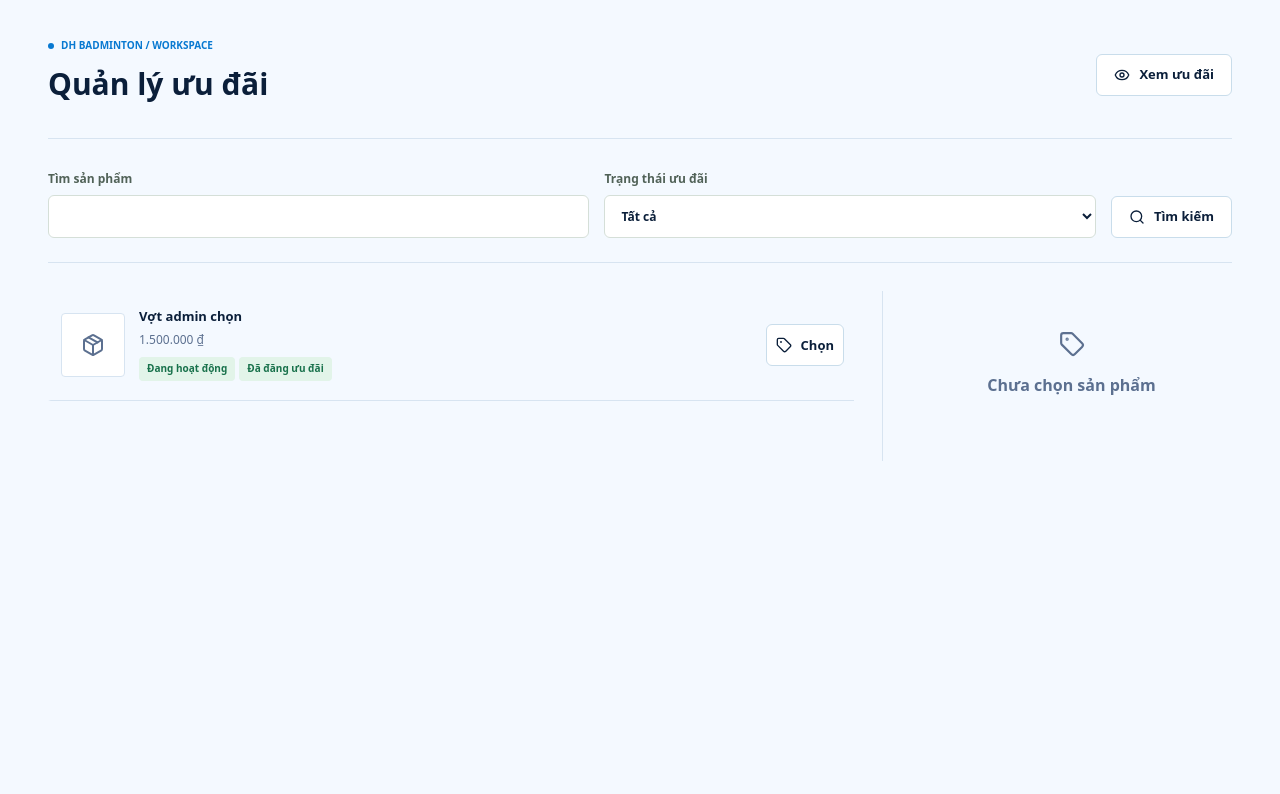
Test: requires confirmation to end an offer and restores the server price
Click the button with aria-label "Chọn Vợt admin chọn" at (805, 345), box x1=766 y1=324 x2=844 y2=366
(page scrolled)
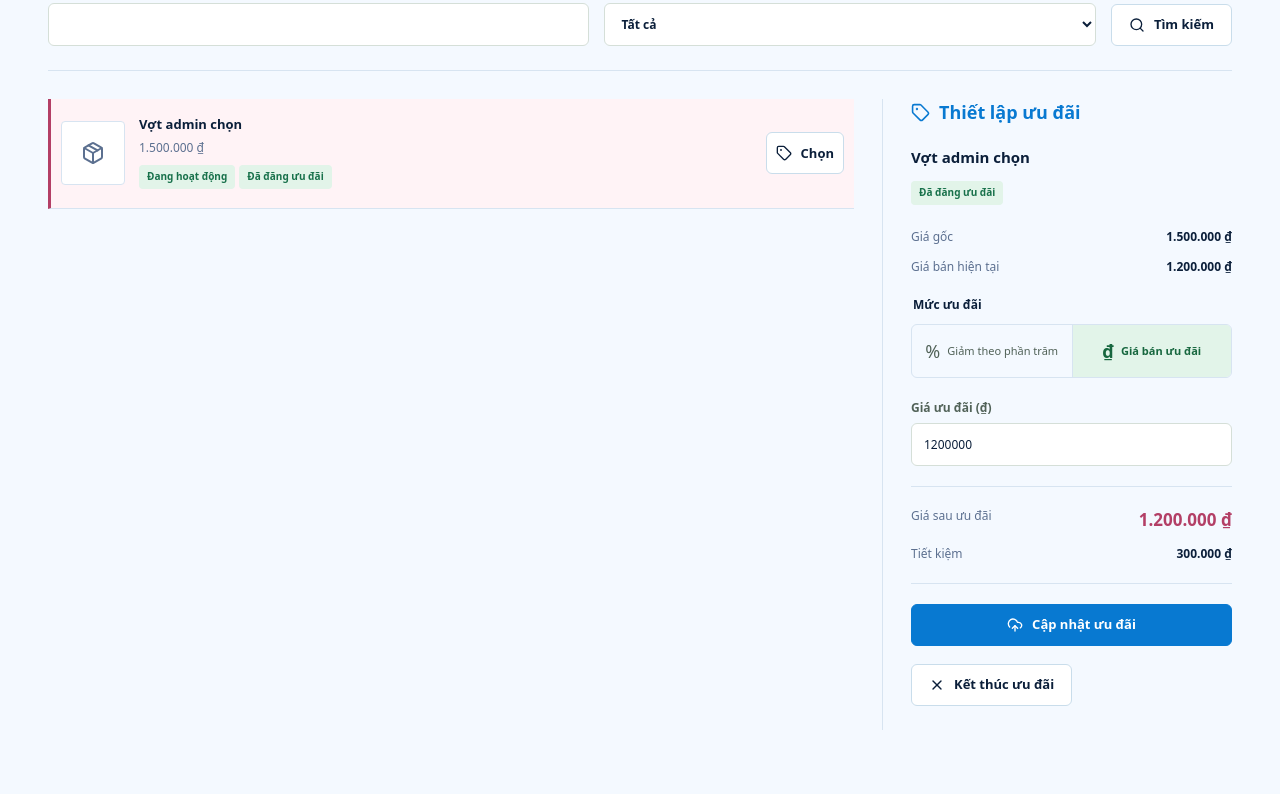
Click the button "Kết thúc ưu đãi" at (992, 685), box x1=911 y1=664 x2=1072 y2=706
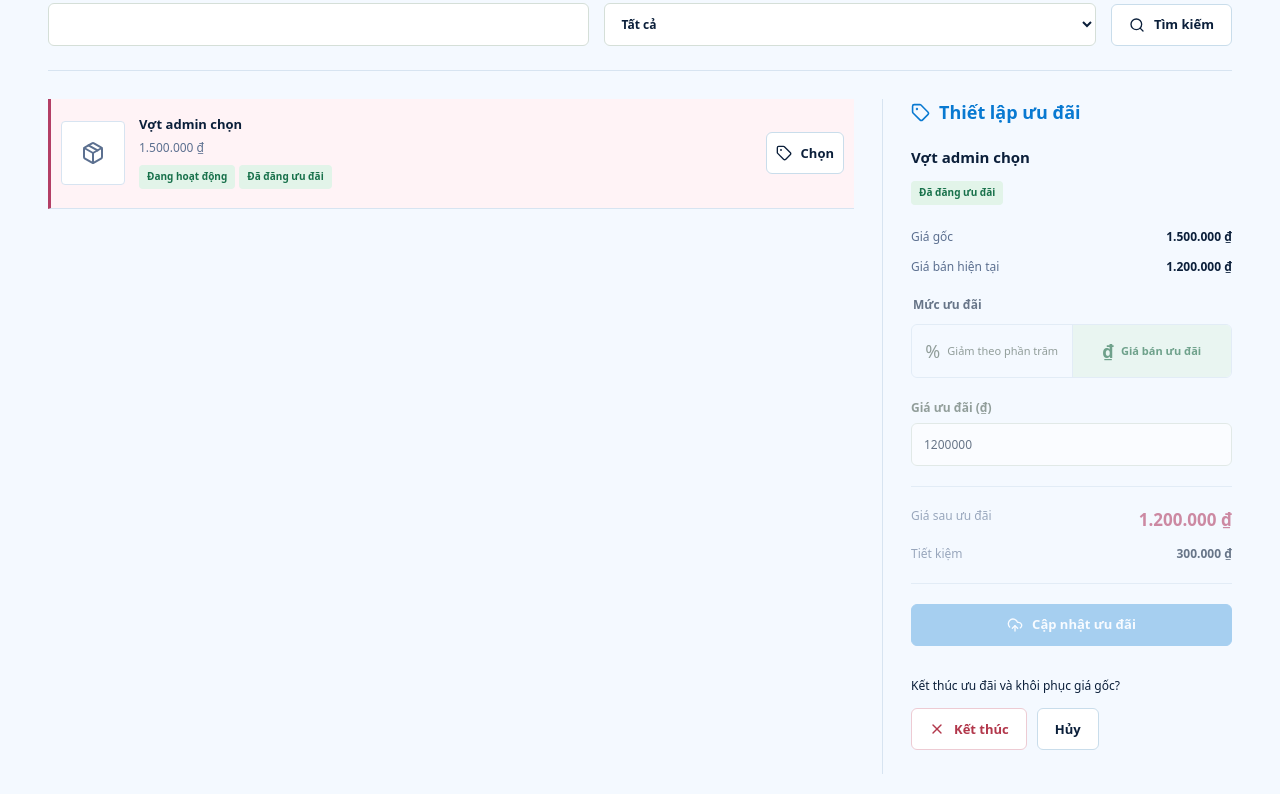
Expected: the element named "Xác nhận kết thúc ưu đãi" is shown, x1=911 y1=677 x2=1120 y2=750
Click the button "Hủy" at (1068, 729), box x1=1037 y1=708 x2=1099 y2=750
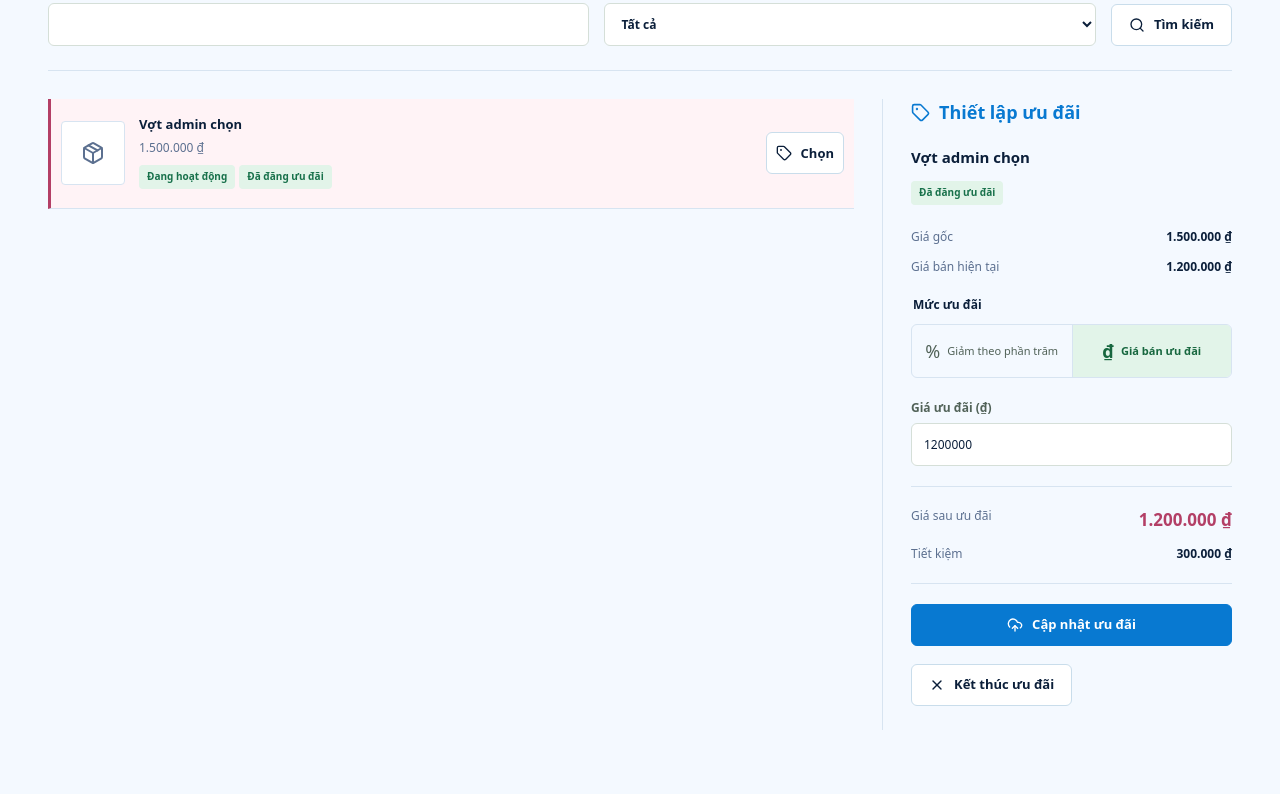
Click the button "Kết thúc ưu đãi" at (992, 685), box x1=911 y1=664 x2=1072 y2=706
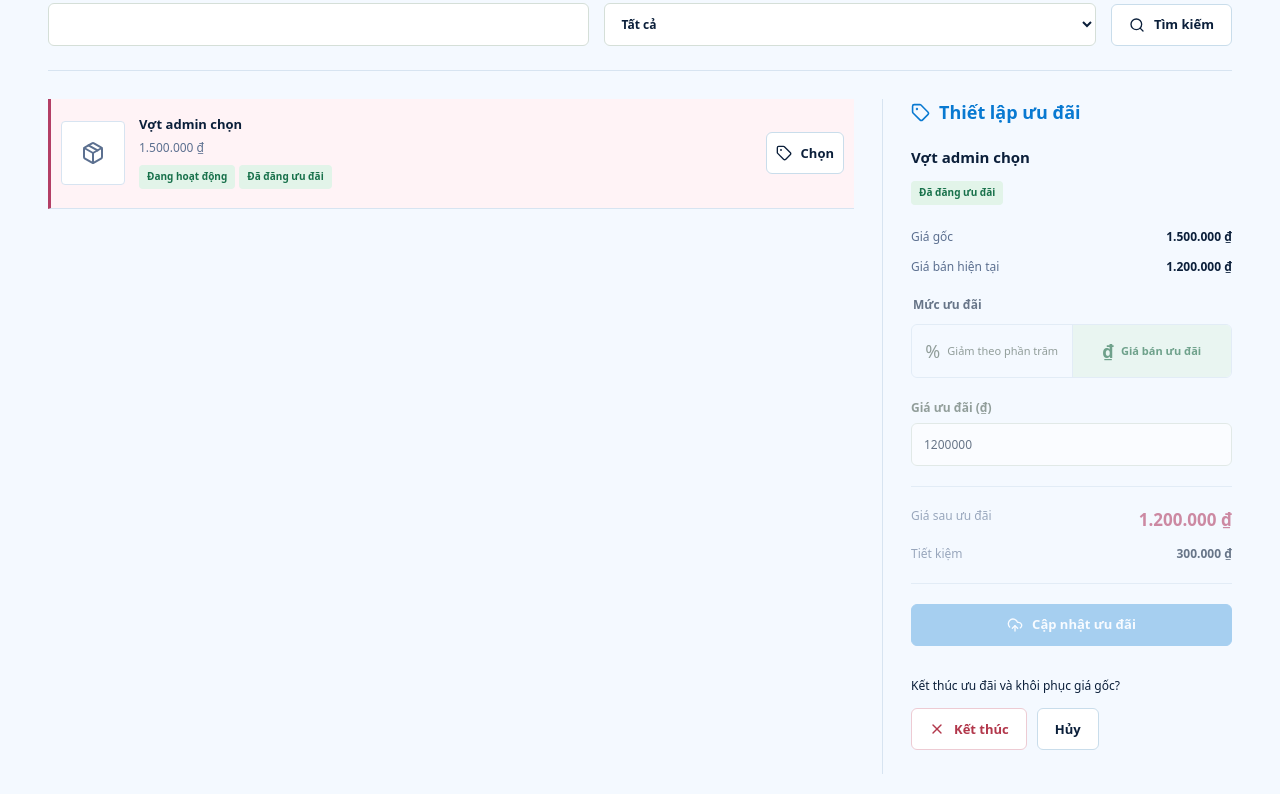
Click the button "Kết thúc" at (969, 729), box x1=911 y1=708 x2=1027 y2=750
(page scrolled)
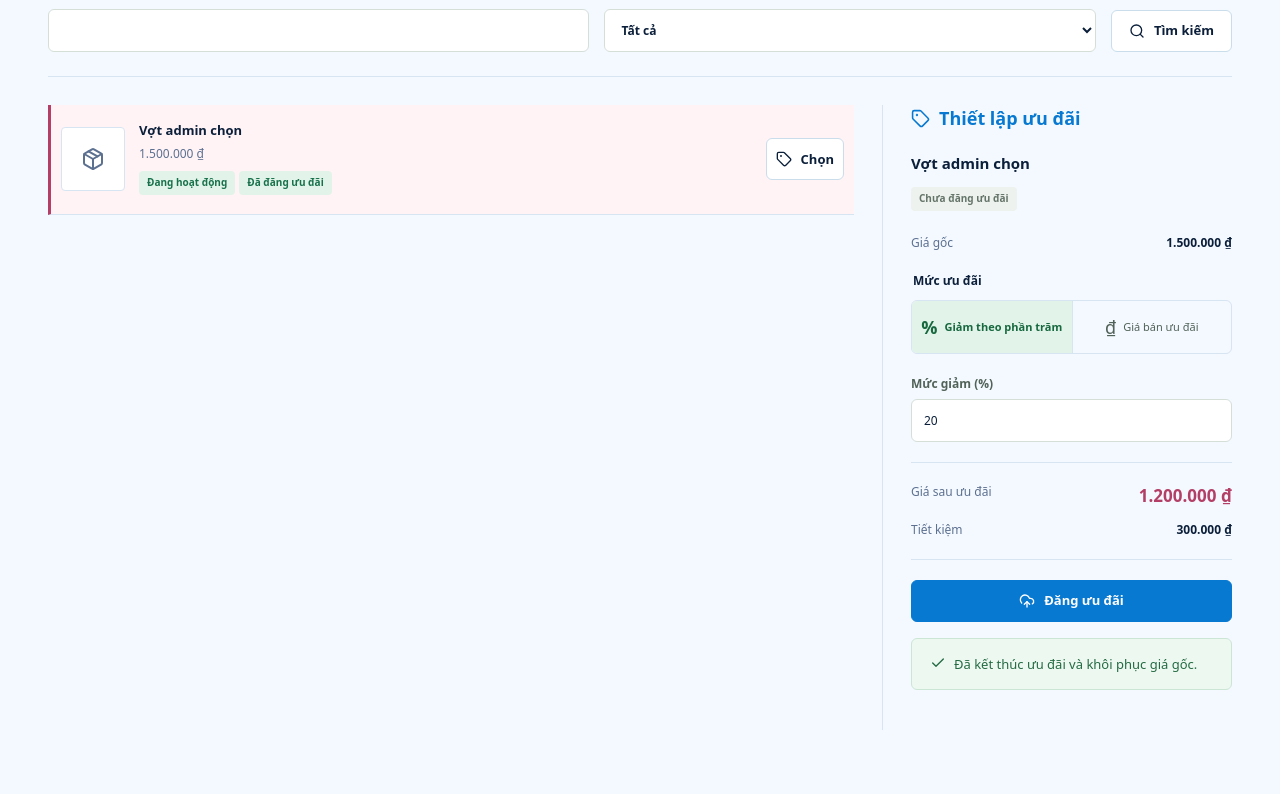
Expected: the text "Đã kết thúc ưu đãi và khôi phục giá gốc." is shown, x1=911 y1=638 x2=1232 y2=690
